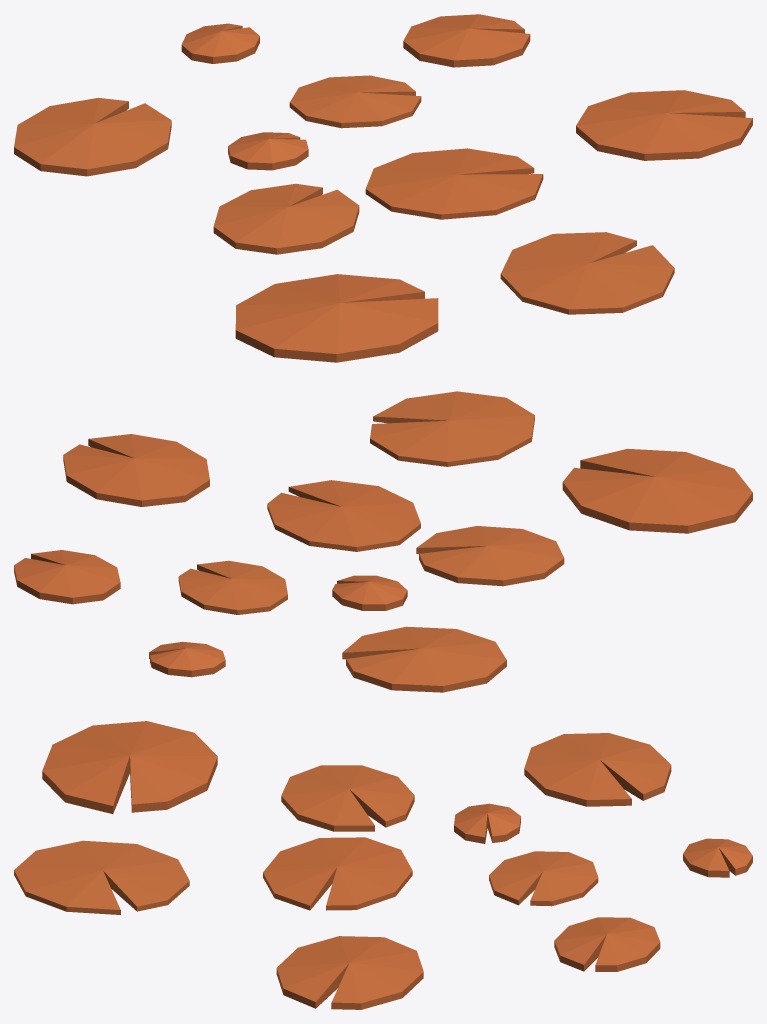
Rendered from lily_pads_wide.glb.
3 renders of one model, top to bottom at view 1: azimuth 30°, elevation 25°; view 2: azimuth 150°, elevation 25°; view 3: azimuth 270°, elevation 25°, orthographic. The views are drawn at different scales.
Parts seen in each view (by area): view 1: Water Lily Multi_2_C; view 2: Water Lily Multi_2_C; view 3: Water Lily Multi_2_C.
Boxes of the visible parts, x1,y1,x2,y2 form: Water Lily Multi_2_C: (14,14,752,362); Water Lily Multi_2_C: (14,391,752,692); Water Lily Multi_2_C: (14,721,752,1009).
Bounding box in the file's own units: 1.34 × 0.04 × 1.49.
1 material, 1 textured.
